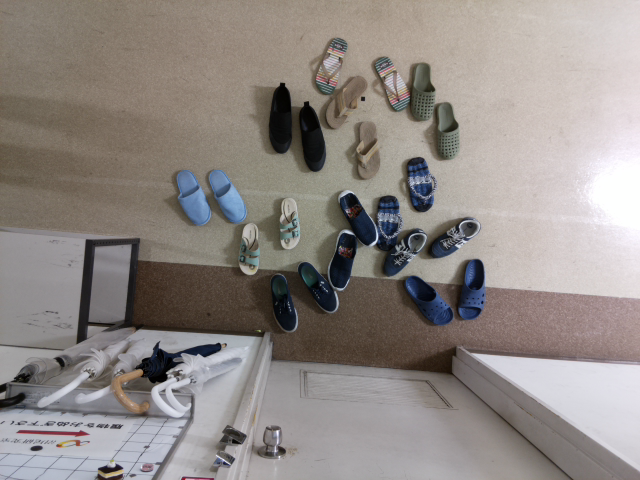Copy of Copy of Copy of Copy of Copy of Copy of Copy of Copy of Copy of Copy of: (422, 206, 489, 267), (390, 271, 457, 331), (446, 252, 495, 330), (374, 220, 433, 282), (368, 44, 417, 118), (344, 112, 389, 190), (318, 68, 372, 132), (400, 147, 442, 217), (368, 187, 410, 257), (429, 95, 467, 167), (309, 30, 349, 97), (402, 55, 437, 130)
Copy of Copy of Copy of Copy of Copy of Copy of Copy of Copy of Copy of shoe: (330, 182, 385, 251)
Copy of Copy of Copy of Copy of Copy of Copy of Copy of Copy of shoe: (323, 224, 363, 294)
Copy of Copy of Copy of Copy of Copy of Copy of Copy of shoe: (293, 254, 344, 320)
Copy of Copy of Copy of Copy of Copy of Copy of shoe: (263, 266, 303, 340)
Copy of Copy of Copy of Copy of Copy of shoe: (271, 188, 308, 255)
Copy of Copy of Copy of Copy of shoe: (228, 215, 266, 282)
Copy of Copy of Copy of shoe: (291, 92, 334, 179)
Copy of Copy of shoe: (256, 75, 298, 162)
Copy of shoe: (203, 161, 254, 226)
shoe: (167, 165, 218, 230)
umbrella: (1, 317, 144, 409), (100, 337, 231, 420), (31, 326, 145, 412), (140, 339, 253, 418), (68, 323, 164, 409), (159, 350, 250, 418)
